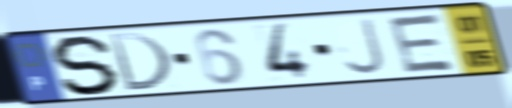4: (263, 20, 315, 84)
6: (192, 26, 246, 88)
D: (105, 31, 175, 93)
E: (385, 11, 459, 76)
J: (342, 16, 390, 77)
S: (49, 33, 123, 97)
